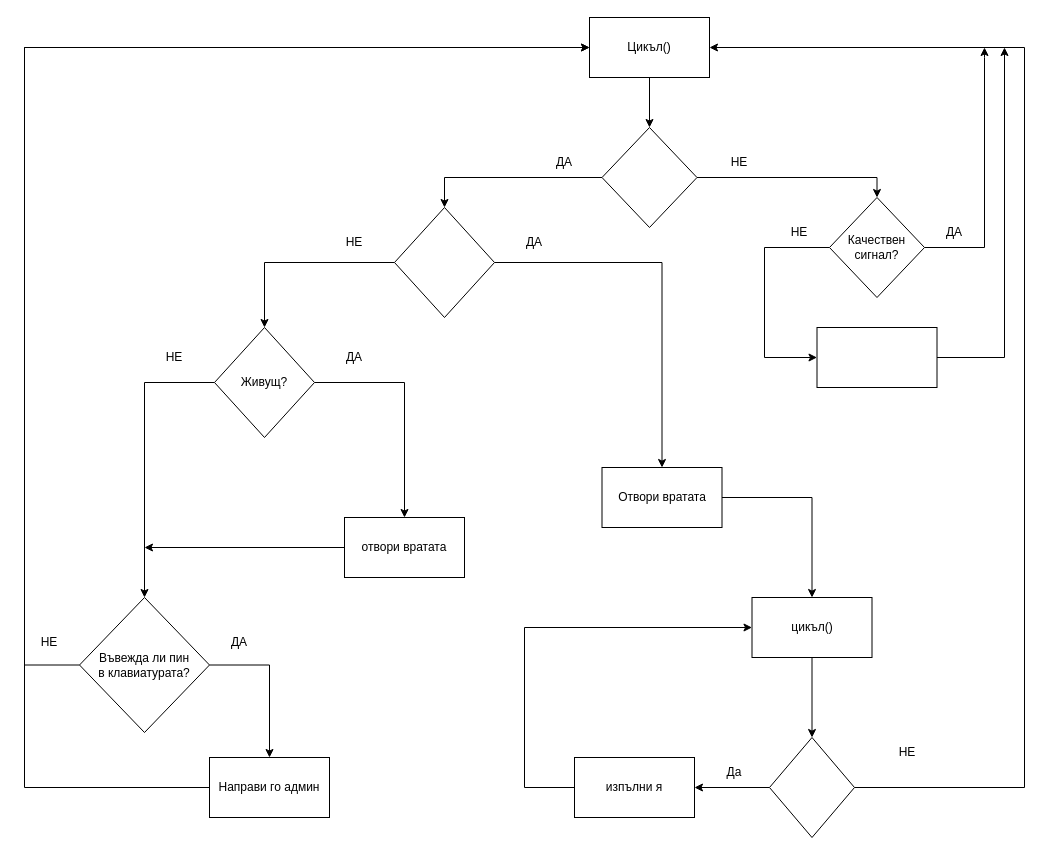
This 1050x855 diagram has some shape labels left out. Each missing label, with the box of its shape:
Администратор: (394, 206, 494, 318)
Задава ли команда?: (768, 736, 854, 838)
Обаждане?: (601, 126, 697, 228)
Сигнализирай: (816, 326, 937, 388)
